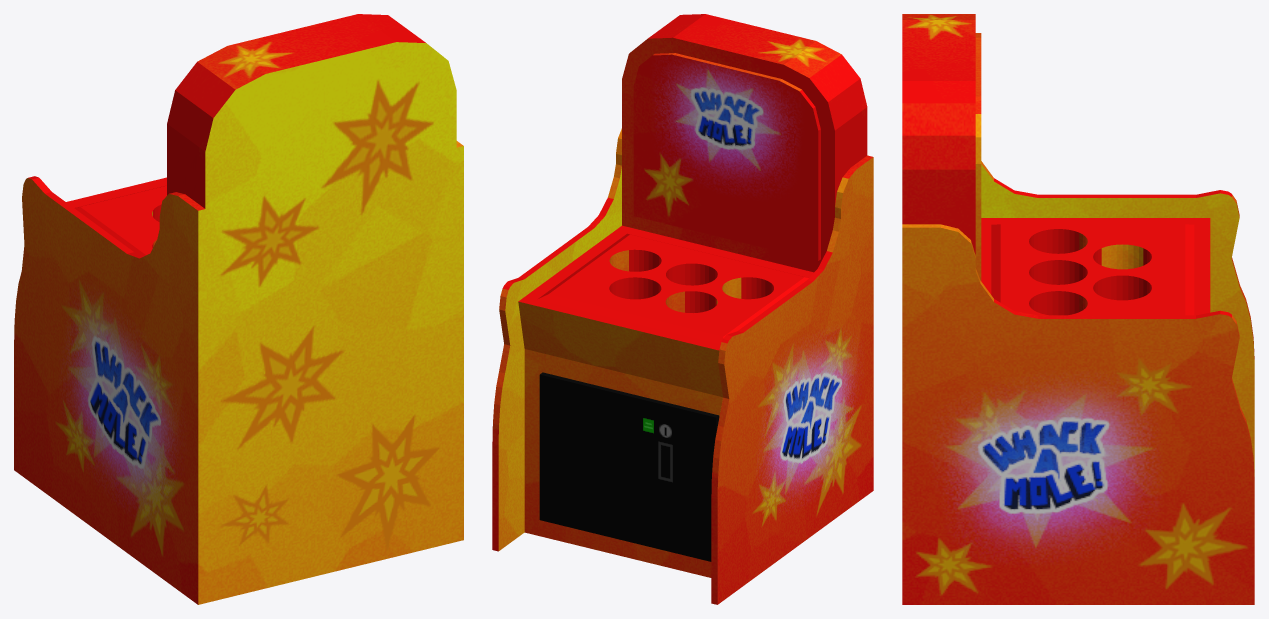
File: BetterArcadeMachine.glb
3 renders of one model, left to right at view 1: azimuth 30°, elevation 25°; view 2: azimuth 150°, elevation 25°; view 3: azimuth 270°, elevation 25°, orthographic. The views are drawn at different scales.
Visible parts, largest first — view 1: Cube; view 2: Cube; view 3: Cube.
Part boxes in pixels (x1,y1,x2,y2): Cube: [14, 14, 463, 604]; Cube: [492, 14, 873, 604]; Cube: [902, 14, 1254, 604].
Bounding box in the file's own units: 2.01 × 3.7 × 2.4.
1 material, 1 textured.
